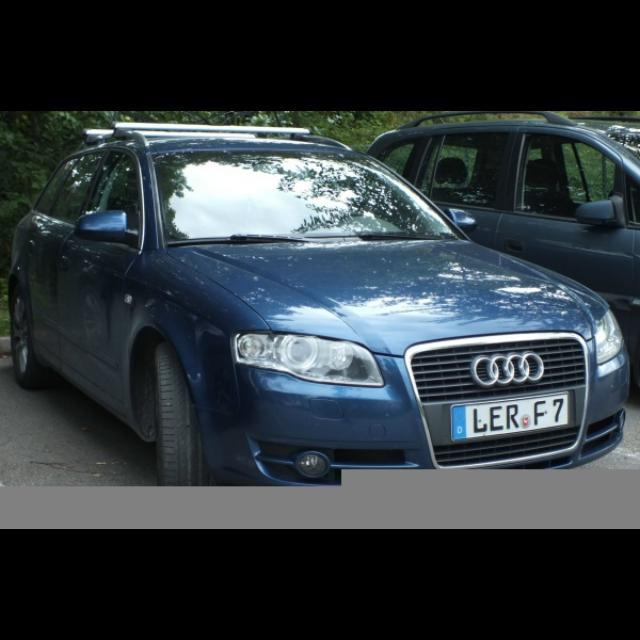license-plates: (452, 394, 570, 442)
